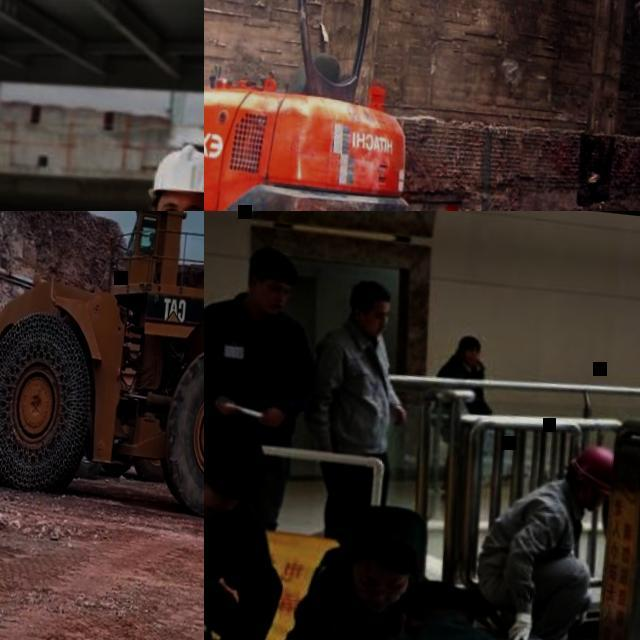Weapon: (476, 397, 640, 640), (271, 492, 483, 640), (208, 213, 310, 468), (325, 258, 435, 467)
objects: (538, 413, 622, 541)
